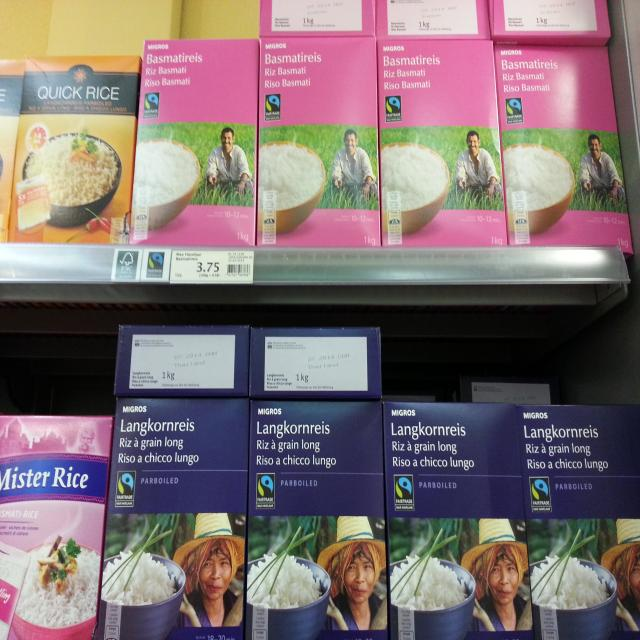Rice: (381, 400, 536, 640), (99, 395, 248, 640), (246, 397, 390, 640), (491, 41, 636, 254), (513, 407, 640, 640), (375, 36, 509, 245), (128, 41, 256, 250), (6, 56, 144, 248), (258, 38, 380, 246), (0, 414, 112, 640), (111, 322, 247, 393), (249, 326, 383, 396)
